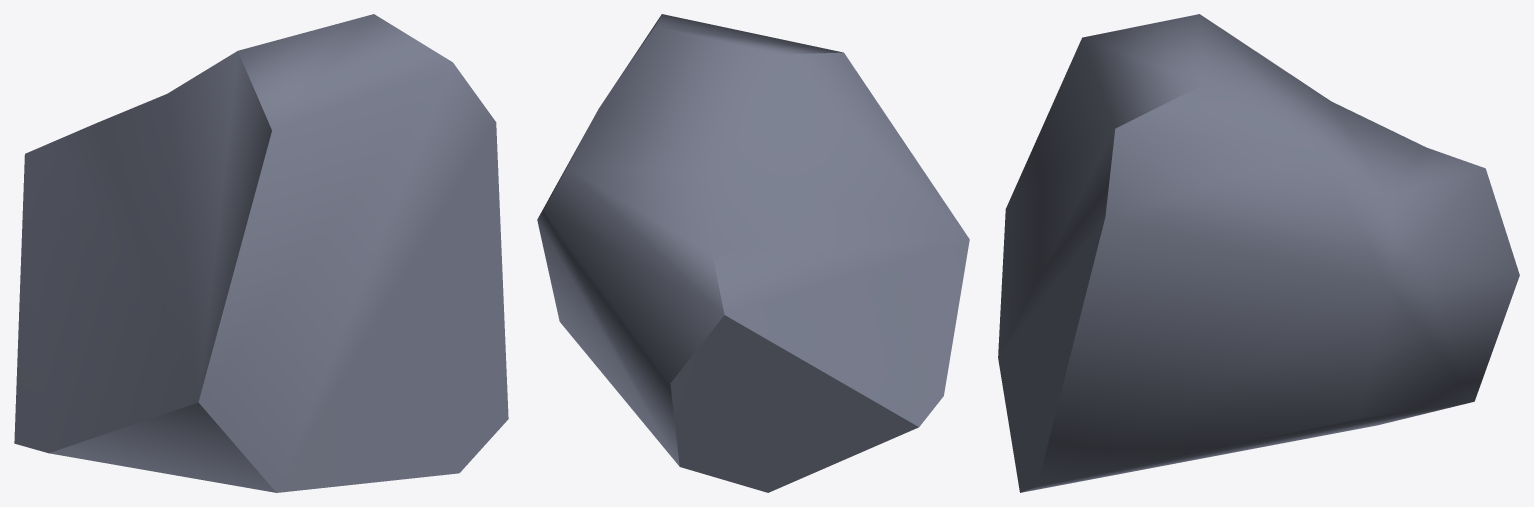
The model's file is Sm_Rocks3L.fbx.
3 views of the same model, side by side, from view 1: azimuth 30°, elevation 25°; view 2: azimuth 150°, elevation 25°; view 3: azimuth 270°, elevation 25° (orthographic). The views are drawn at different scales.
Visible parts, largest first — view 1: Sm_Rocks3L; view 2: Sm_Rocks3L; view 3: Sm_Rocks3L.
Boxes of the visible parts, x1,y1,x2,y2 form: Sm_Rocks3L: [14, 14, 508, 492]; Sm_Rocks3L: [537, 14, 969, 492]; Sm_Rocks3L: [998, 14, 1519, 492].
Bounding box in the file's own units: 73.89 × 74.72 × 78.42.
